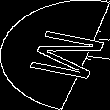M_E: (7, 26, 103, 84)
